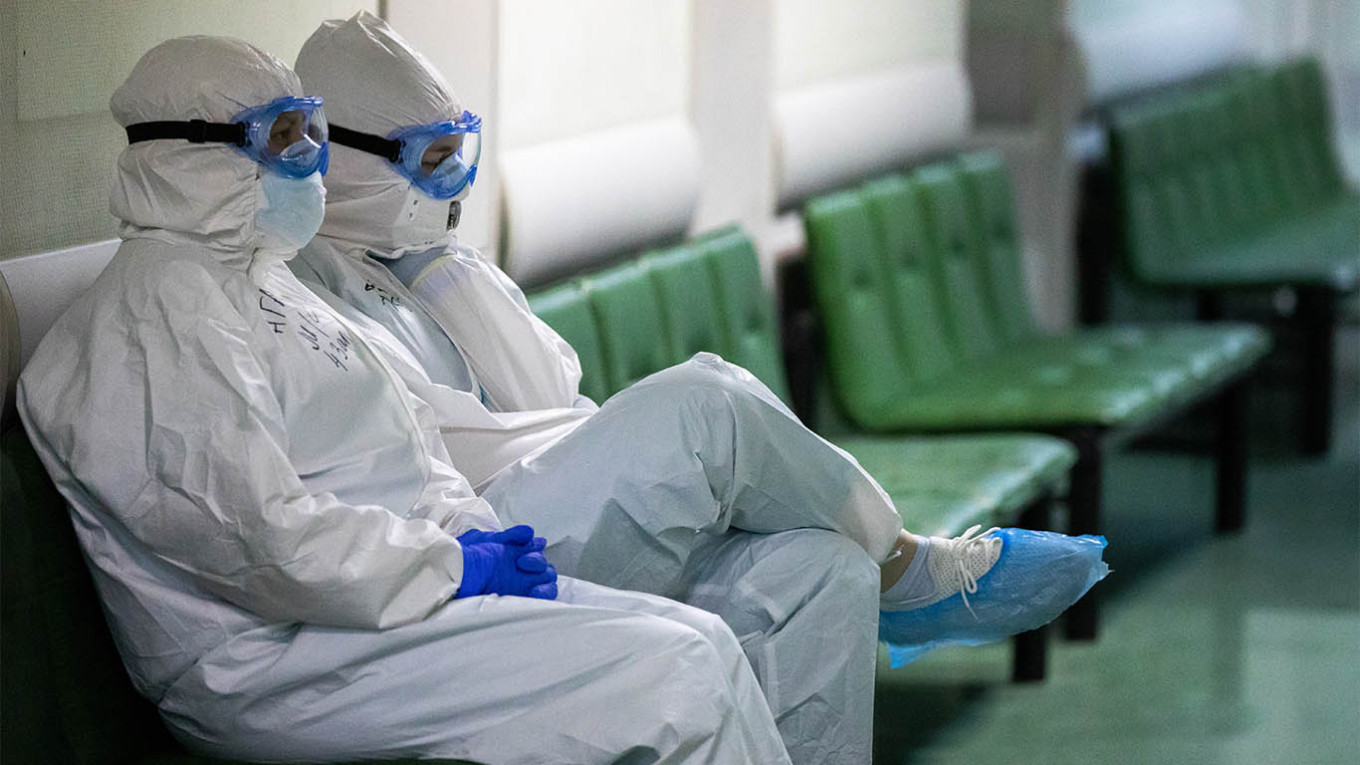Coverall: (1, 37, 770, 760), (309, 20, 899, 757)
Gloves: (442, 525, 564, 615)
Goggles: (360, 101, 497, 201), (222, 96, 335, 182)
with_mask: (240, 133, 328, 254), (383, 149, 472, 252)
